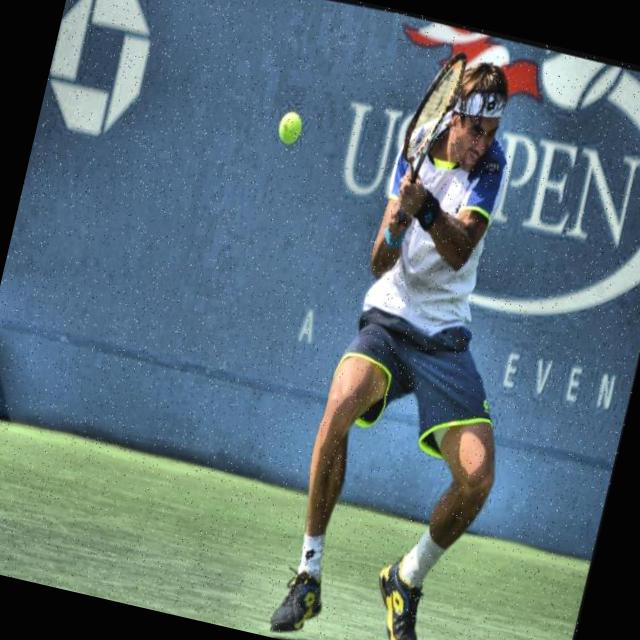tennis-ball: (272, 104, 308, 148)
